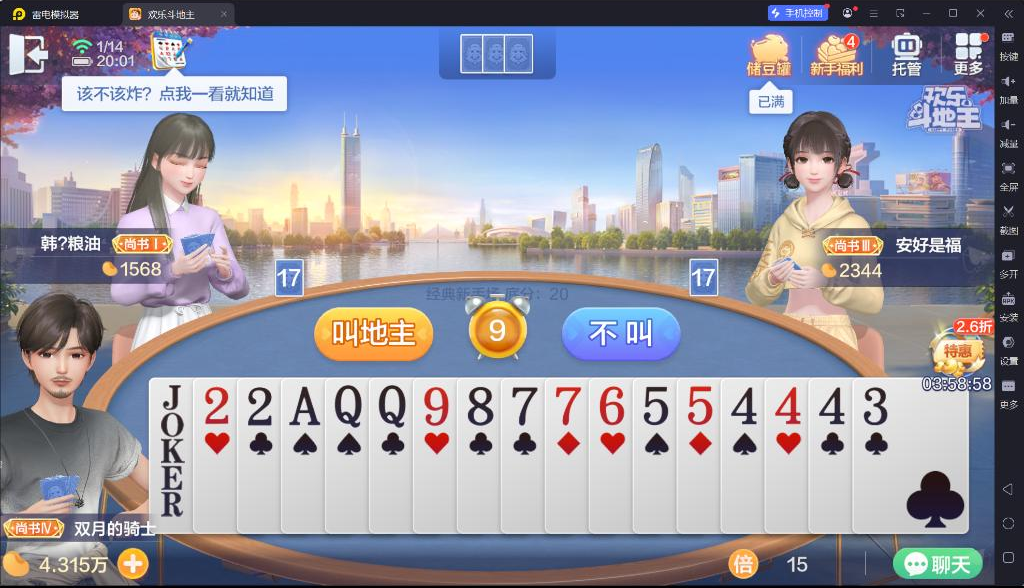A: (286, 383, 322, 429)
Q: (373, 382, 409, 430), (330, 383, 366, 429)
eight: (465, 383, 495, 427)
five: (639, 384, 671, 428), (683, 383, 715, 427)
four: (727, 381, 761, 427), (815, 383, 849, 427), (772, 383, 804, 426)
joker: (155, 382, 190, 466)
nine: (417, 382, 451, 428)
seven: (507, 382, 539, 429), (552, 383, 582, 428)
six: (596, 384, 626, 427)
three: (860, 381, 890, 427)
two: (244, 383, 275, 429), (201, 384, 232, 426)
